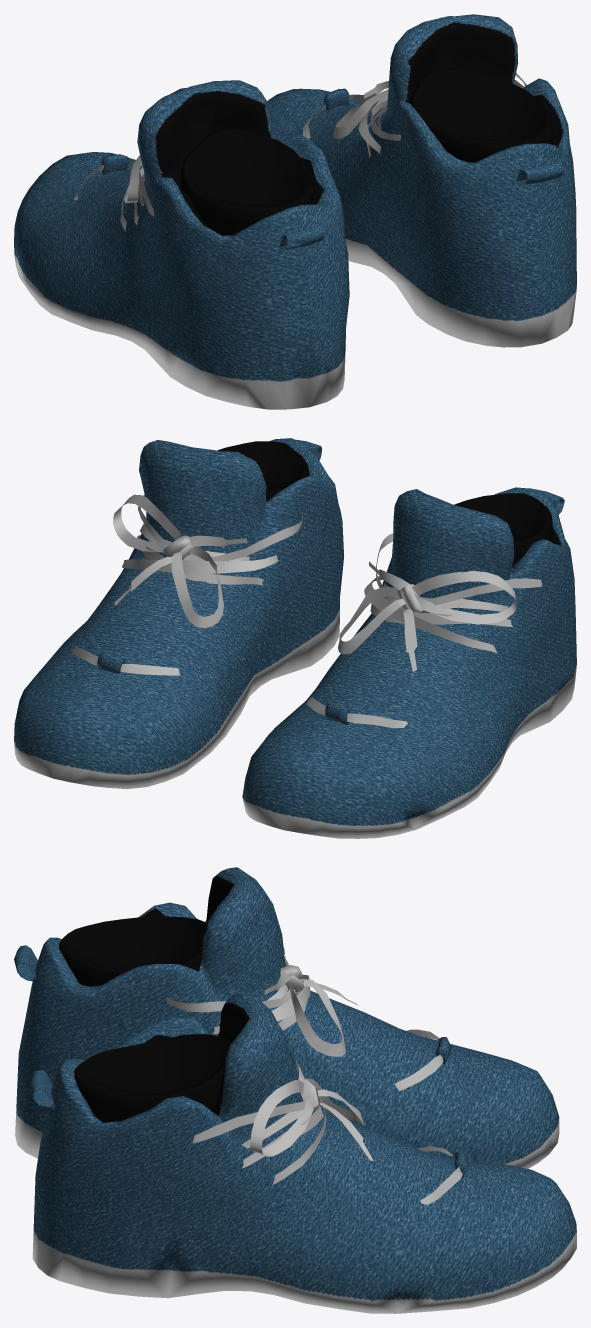
File: frl_apartment_shoe_04.glb
3 views of the same model, one above another, from view 1: azimuth 30°, elevation 25°; view 2: azimuth 150°, elevation 25°; view 3: azimuth 270°, elevation 25° (orthographic). The views are drawn at different scales.
Parts seen in each view (by area): view 1: frl_apartment_shoe_04; view 2: frl_apartment_shoe_04; view 3: frl_apartment_shoe_04.
Part boxes in pixels (x1,y1,x2,y2): frl_apartment_shoe_04: [14, 14, 576, 409]; frl_apartment_shoe_04: [14, 438, 576, 838]; frl_apartment_shoe_04: [14, 867, 576, 1313].
Size of the model in its own units: 0.272 by 0.1479 by 0.2918.
1 material, 1 textured.
